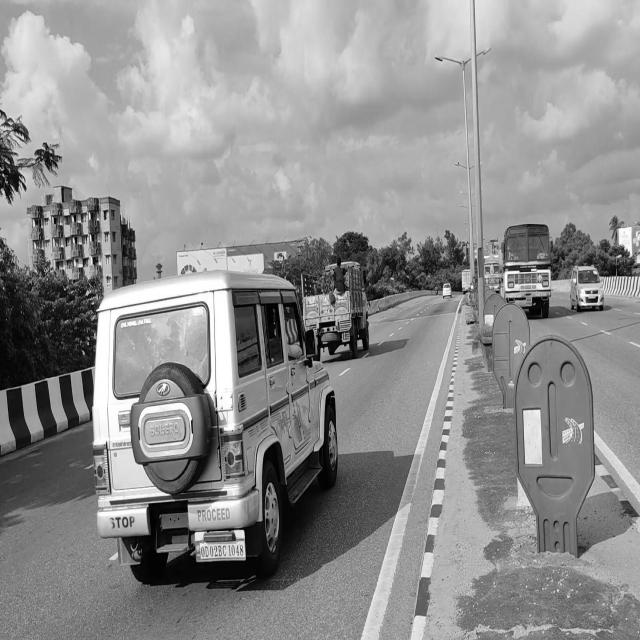bus: (503, 225, 553, 317)
car: (96, 272, 338, 580), (568, 261, 608, 313)
license-plate: (196, 542, 247, 566)
truck: (296, 248, 372, 358)
